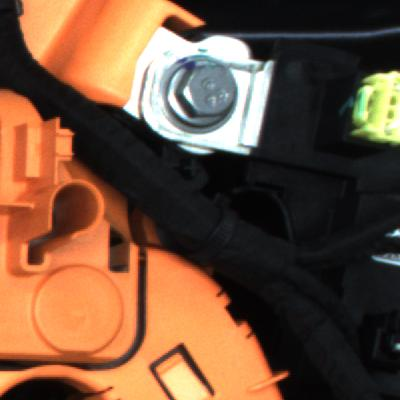nut_b: (146, 47, 258, 138)
